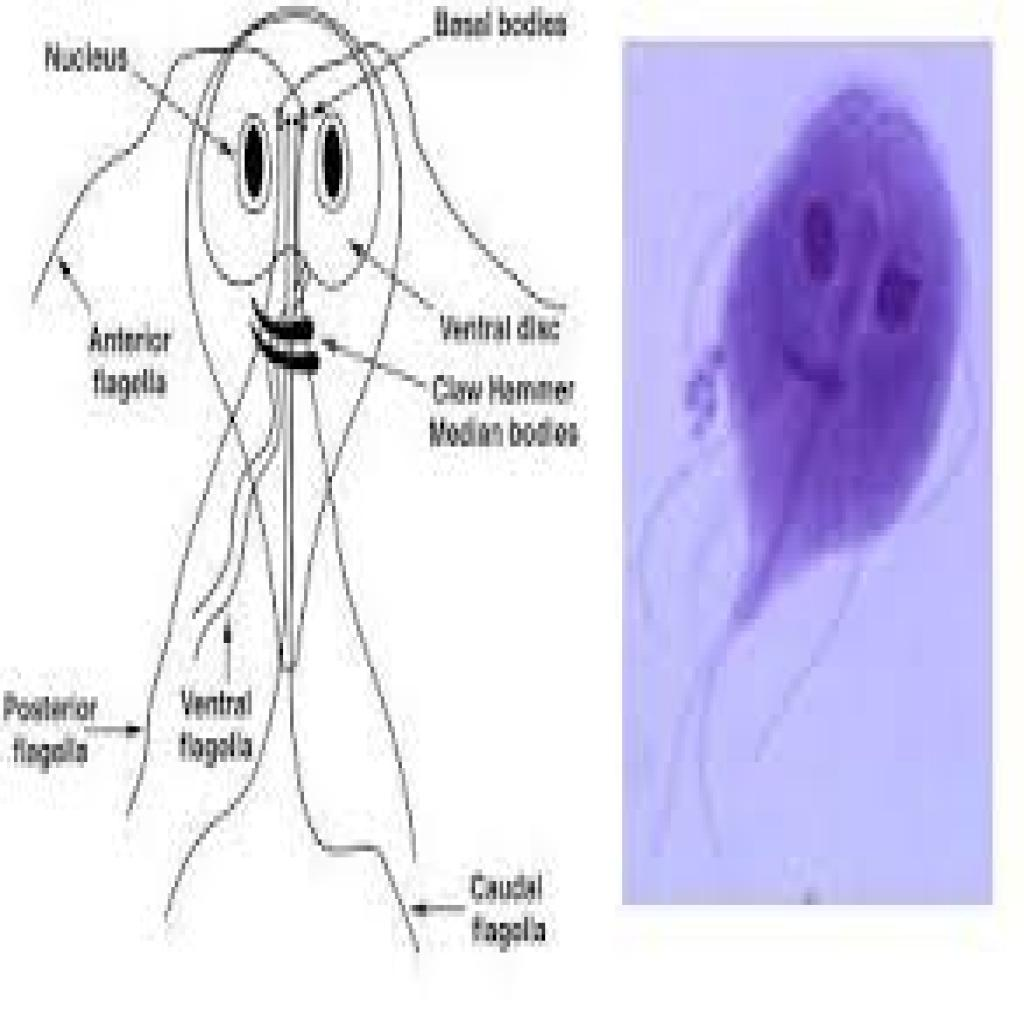Giardia: (685, 84, 972, 720)
